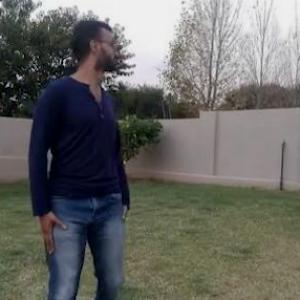follow: (25, 14, 131, 299)
